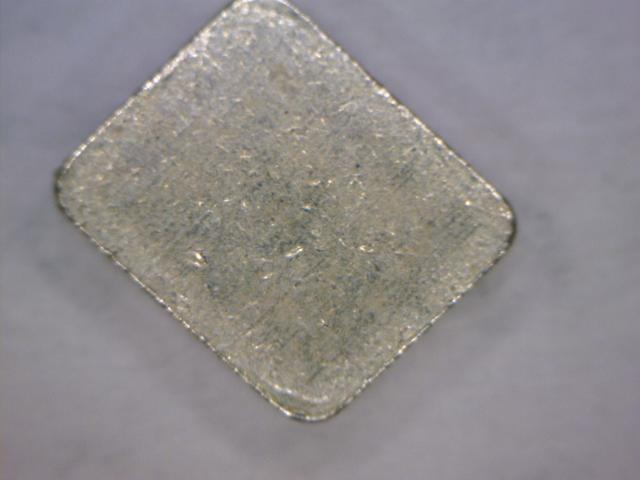ok: (42, 2, 535, 428)
